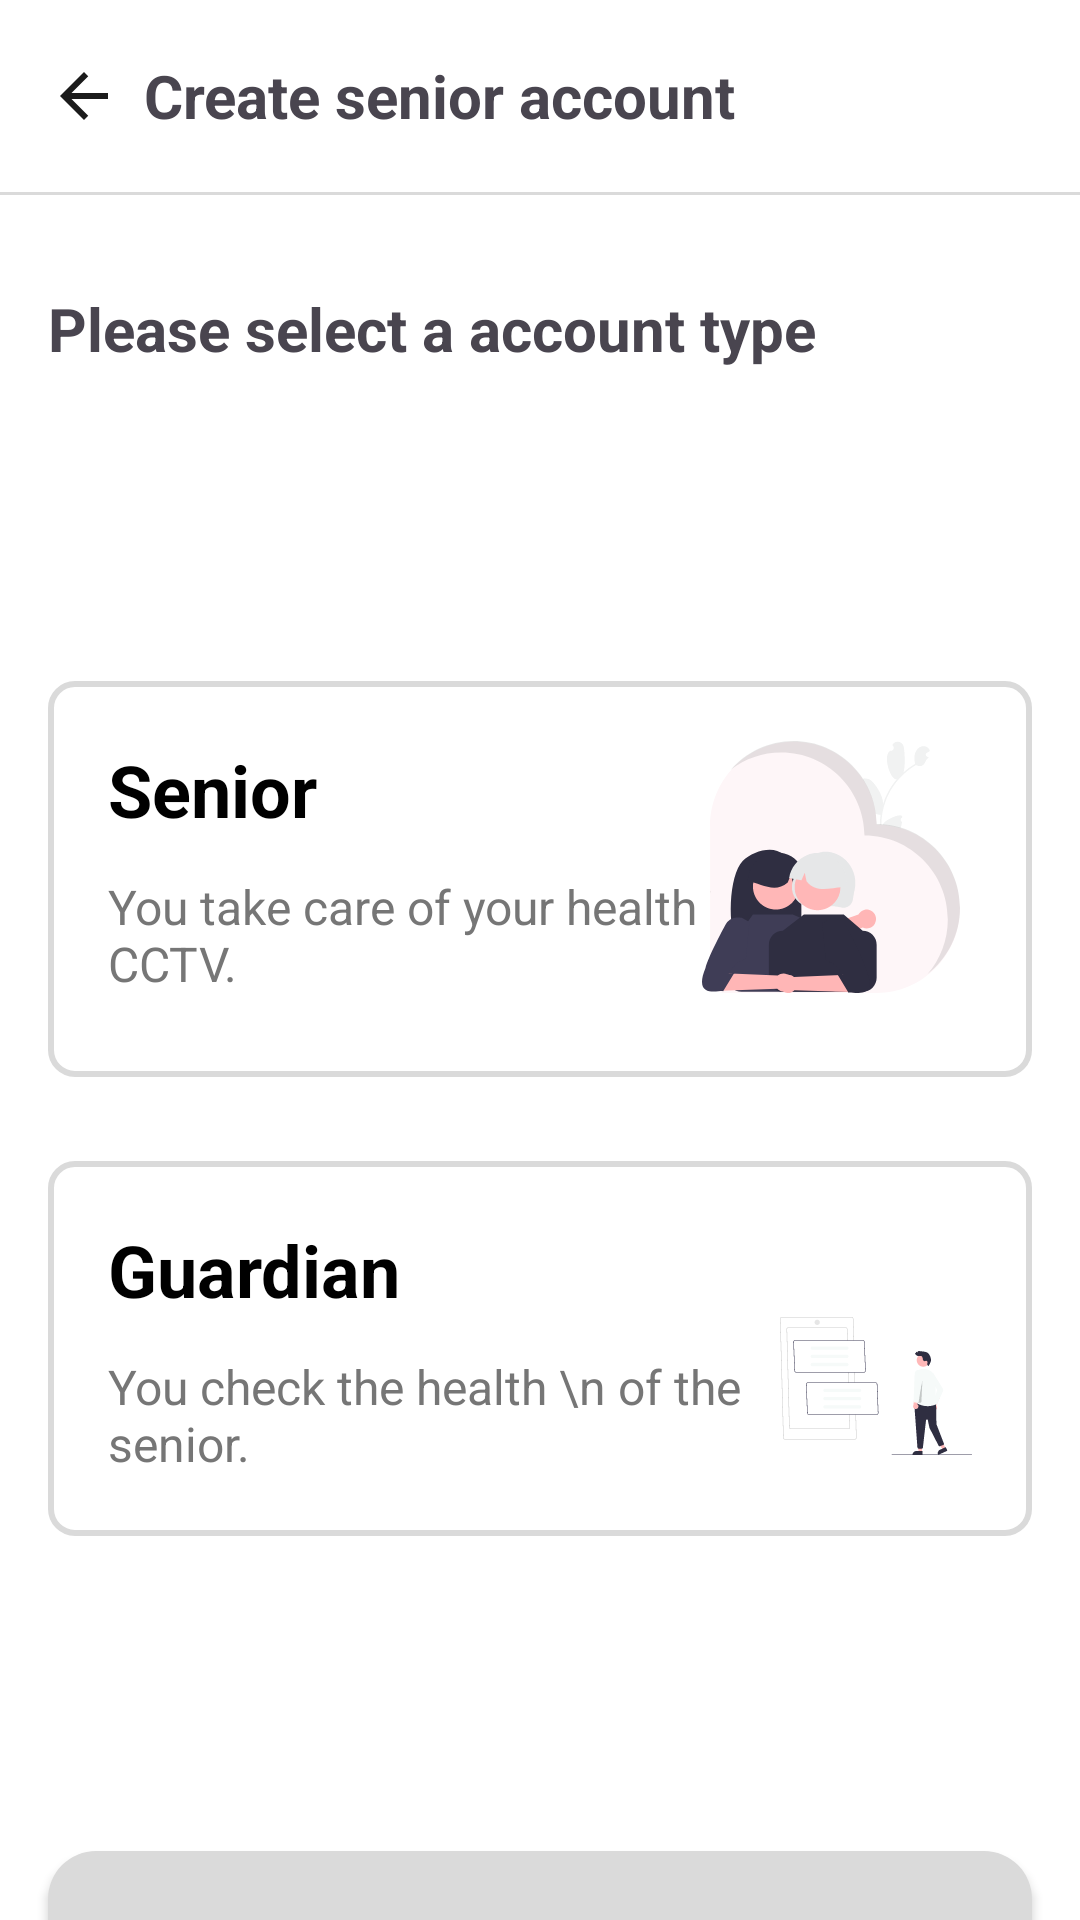

Screen size 1080×1920. Icon name, then its center in pixels as (x=x, y=y):
type senior: (x=825, y=867)
